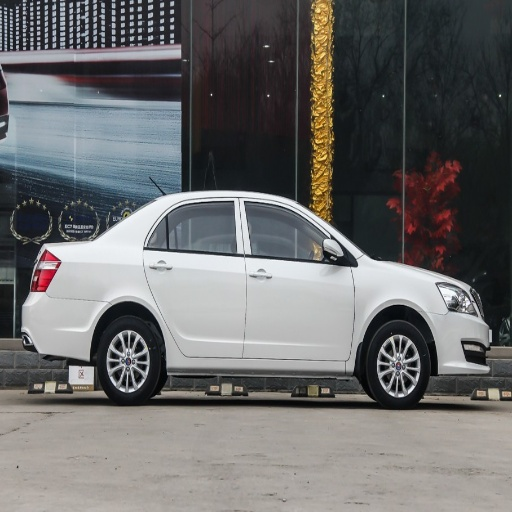back_right_door: (145, 197, 246, 358)
front_right_door: (243, 199, 355, 360)
